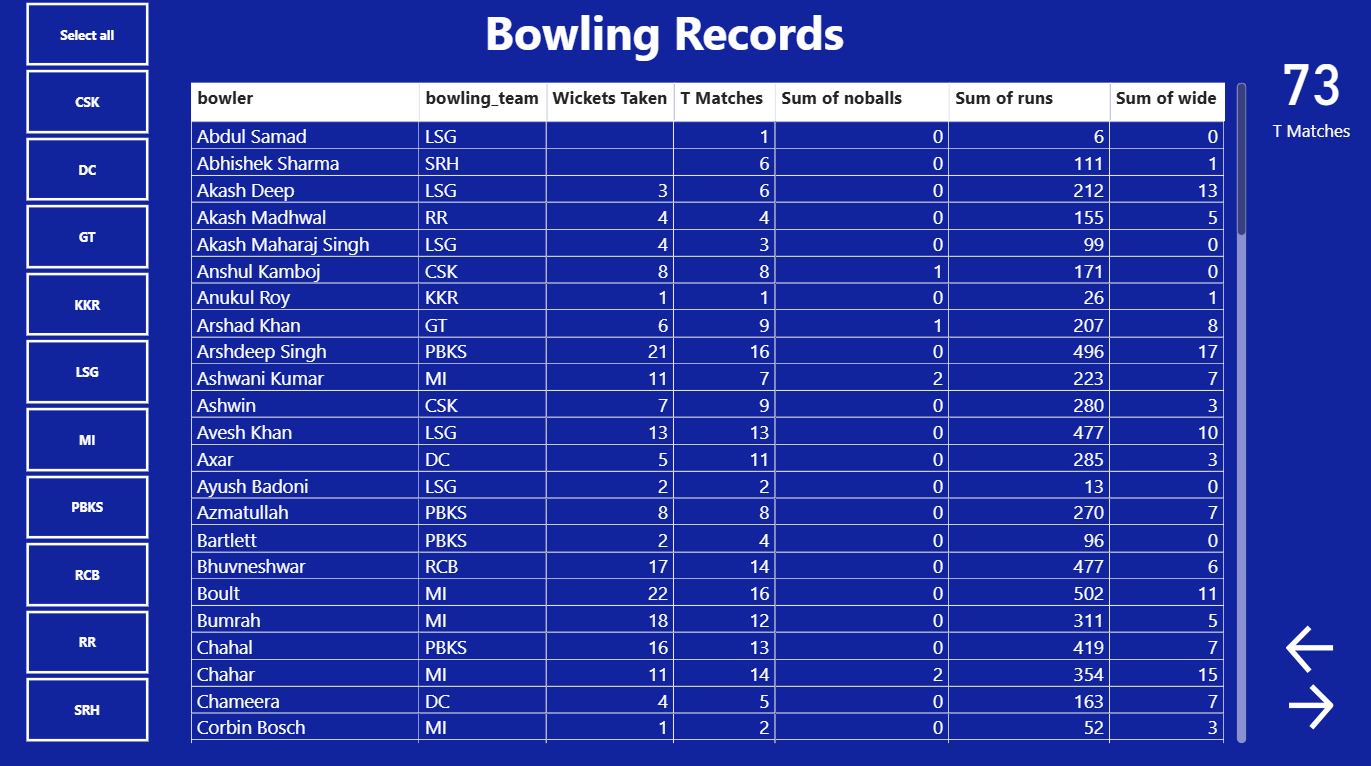

The page's visual inventory and layout, read from the dashboard file:
{"tool":"powerbi","page":{"name":"Duplicate of Page 4","canvas":[1280,720],"ordinal":2},"visuals":[{"type":"card","fields":{"Values":["ipl2025.T Matches"]},"box":[1166.3,32.6,111.6,110.5],"z":1000},{"type":"tableEx","fields":{"Values":["ipl2025.bowler","ipl2025.bowling_team","ipl2025.Filtered Wickets","ipl2025.T Matches","ipl2025.noballs","ipl2025.runs","ipl2025.wide"]},"box":[173.3,76.7,993,624.4],"z":3000},{"type":"slicer","fields":{"Values":["Bowling Team Name.TEAMS"]},"box":[0,0,164,701.2],"z":4000},{"type":"actionButton","box":[1194.2,636,54.7,52.3],"z":4001},{"type":"actionButton","box":[1194.2,581.4,54.7,54.7],"z":4002},{"type":"textbox","box":[447.7,0,508.1,76.7],"z":4003}]}

Visuals, with their boxes in screenshot pixels (x1, y1, x2, y2), scaled from the page's 1280x720 canvas onto the 1371x766 screenshot:
card - ipl2025.T Matches: [1249, 35, 1369, 152]
tableEx - ipl2025.bowler x ipl2025.bowling_team: [186, 82, 1249, 746]
slicer - Bowling Team Name.TEAMS: [0, 0, 176, 746]
actionButton: [1279, 677, 1338, 732]
actionButton: [1279, 619, 1338, 677]
textbox: [480, 0, 1024, 82]
